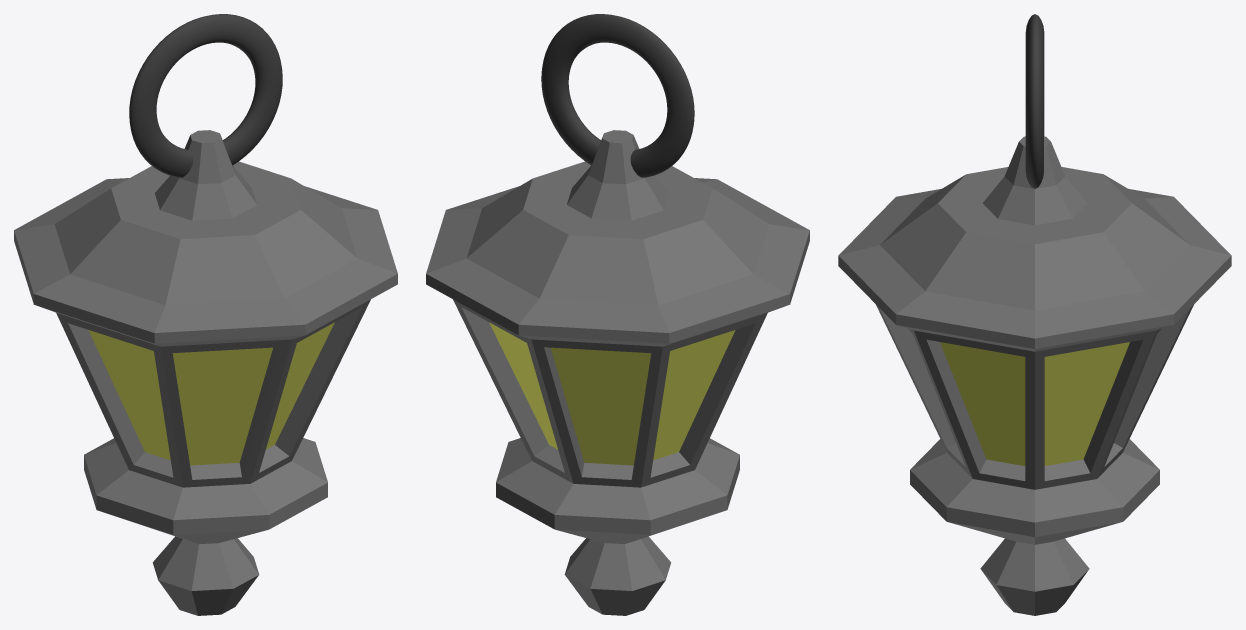
The model's file is Ayuda_1.glb.
The picture shows the model from 3 angles, left to right: view 1: azimuth 30°, elevation 25°; view 2: azimuth 150°, elevation 25°; view 3: azimuth 270°, elevation 25°; orthographic projection.
Visible parts, largest first — view 1: Círculo, Círculo.001, Cilindro; view 2: Círculo, Círculo.001, Cilindro; view 3: Círculo, Círculo.001, Cilindro.
Boxes of the visible parts, box(x1,y1,x2,y2) form: Círculo: box(14, 130, 397, 615); Círculo.001: box(88, 322, 334, 465); Cilindro: box(129, 14, 282, 177); Círculo: box(426, 130, 809, 615); Círculo.001: box(489, 322, 735, 465); Cilindro: box(541, 14, 694, 177); Círculo: box(838, 136, 1231, 615); Círculo.001: box(940, 342, 1129, 465); Cilindro: box(1025, 14, 1044, 188).
Bounding box in the file's own units: 5.68 × 9.26 × 5.68.
